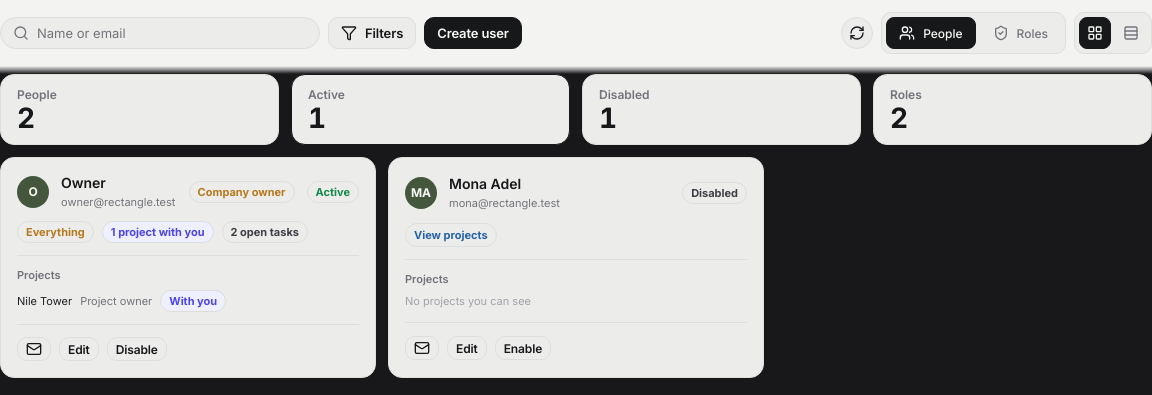
Test: TeamPage › offers a way out when filters match nobody
This screenshot has width=1152, height=395.
Expected: the text "Mona Adel" is shown, [449,175,521,192]
In the field named "Search people": (172, 33) [37,25,307,41], type "nobody-by-this-name"
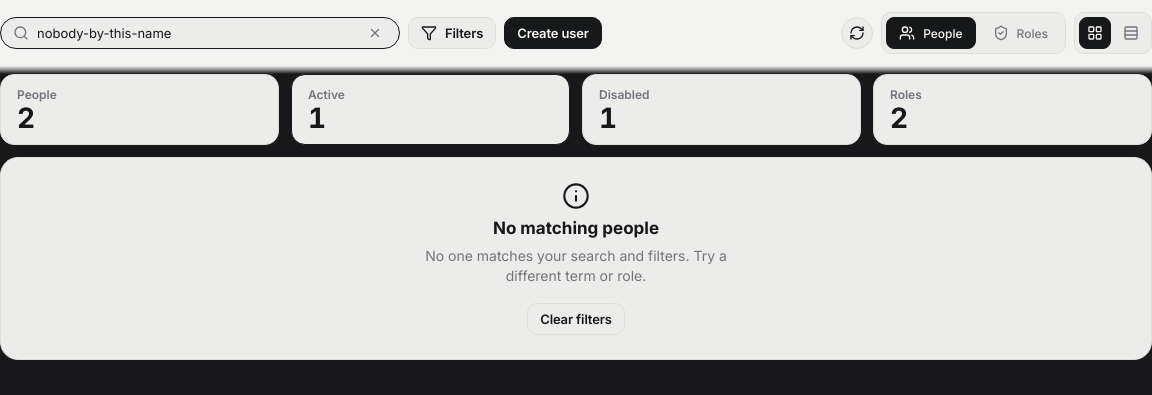
Expected: the text "No matching people" is shown, [493,218,659,238]
Click the button "Clear filters": (576, 319) [527,303,625,335]
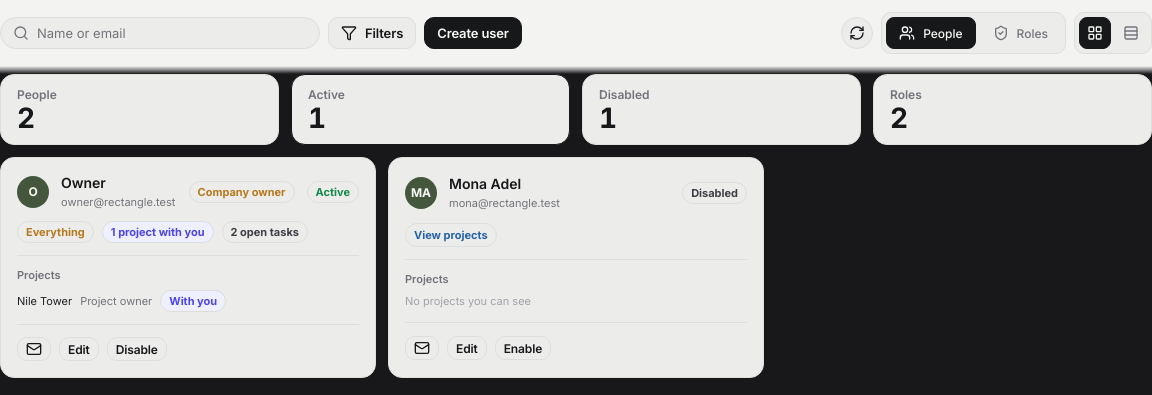
Expected: the text "Mona Adel" is shown, [449,175,521,192]
